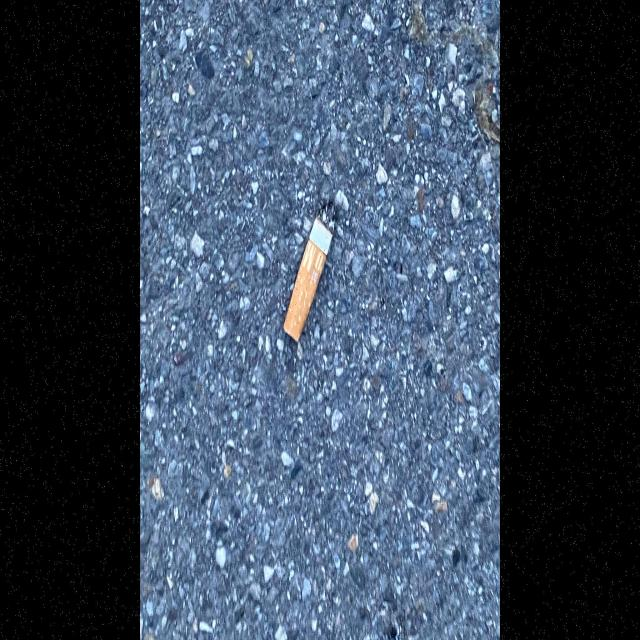other waste: (282, 198, 336, 343)
